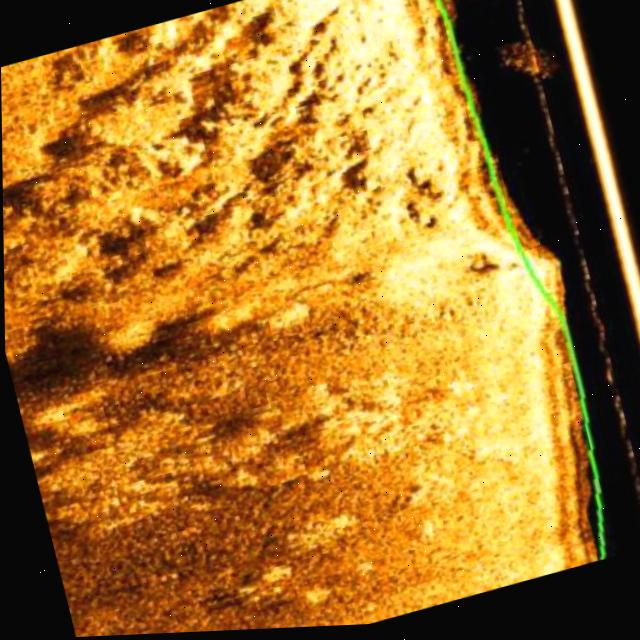bedrock group: (0, 0, 476, 364)
